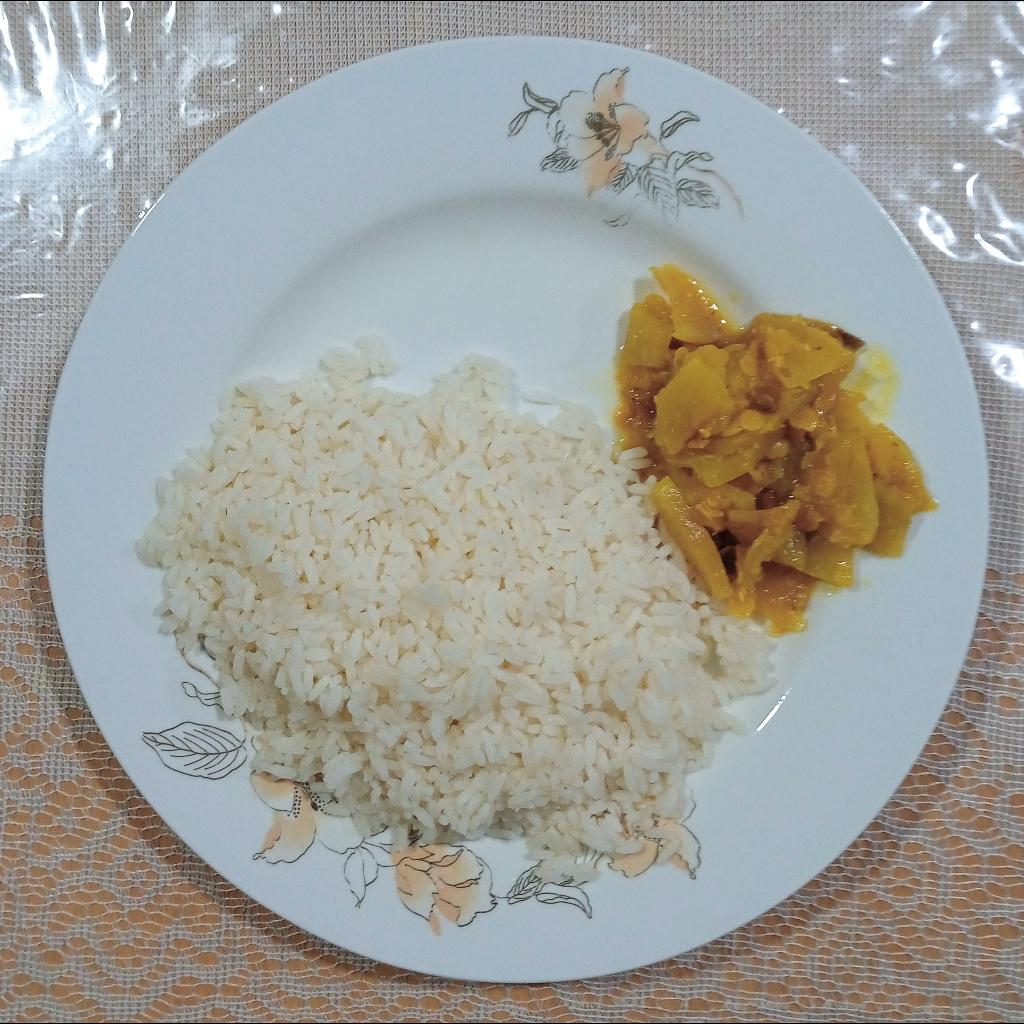lau: (611, 261, 941, 635)
rice: (136, 339, 784, 878)
